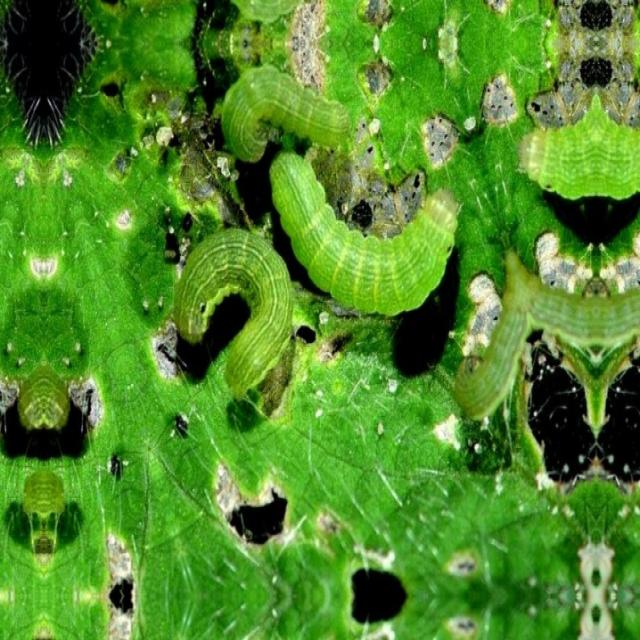Armyworm: (254, 150, 472, 341), (171, 196, 300, 421), (510, 109, 640, 221), (210, 61, 358, 157)
Armyworm_damage: (204, 448, 316, 576), (334, 558, 423, 640), (96, 546, 156, 640), (586, 46, 624, 104), (580, 4, 624, 39)
